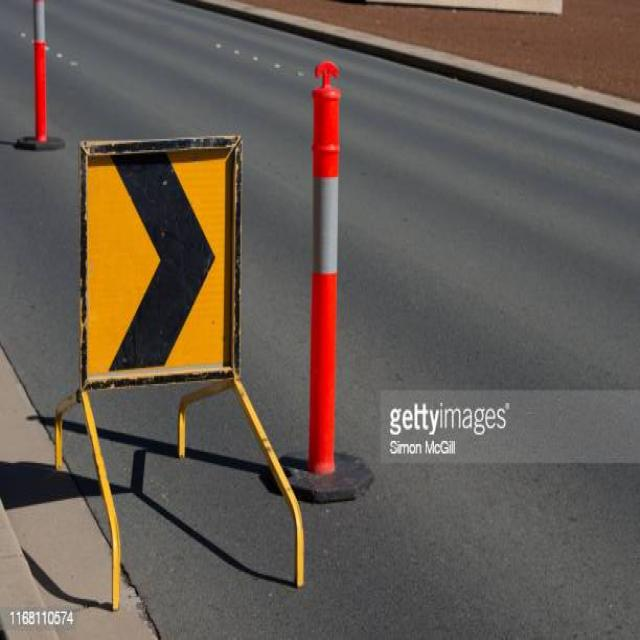DIRECTION: (84, 145, 232, 372)
